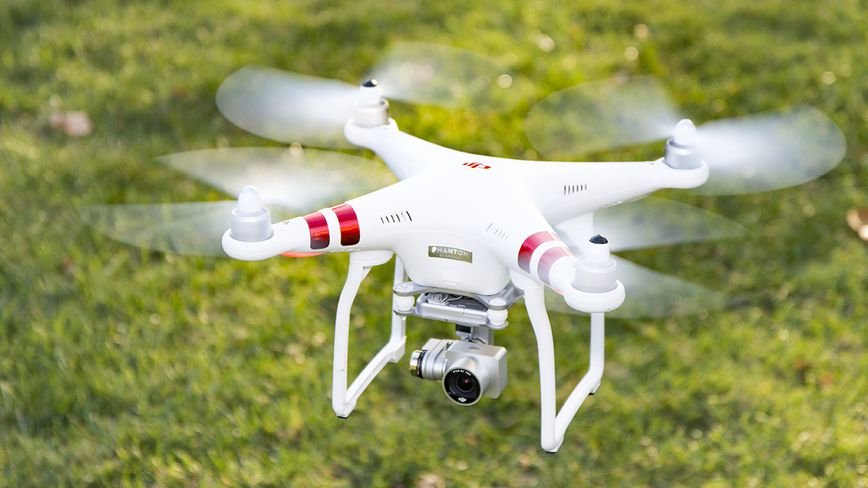drone: (73, 35, 853, 458)
